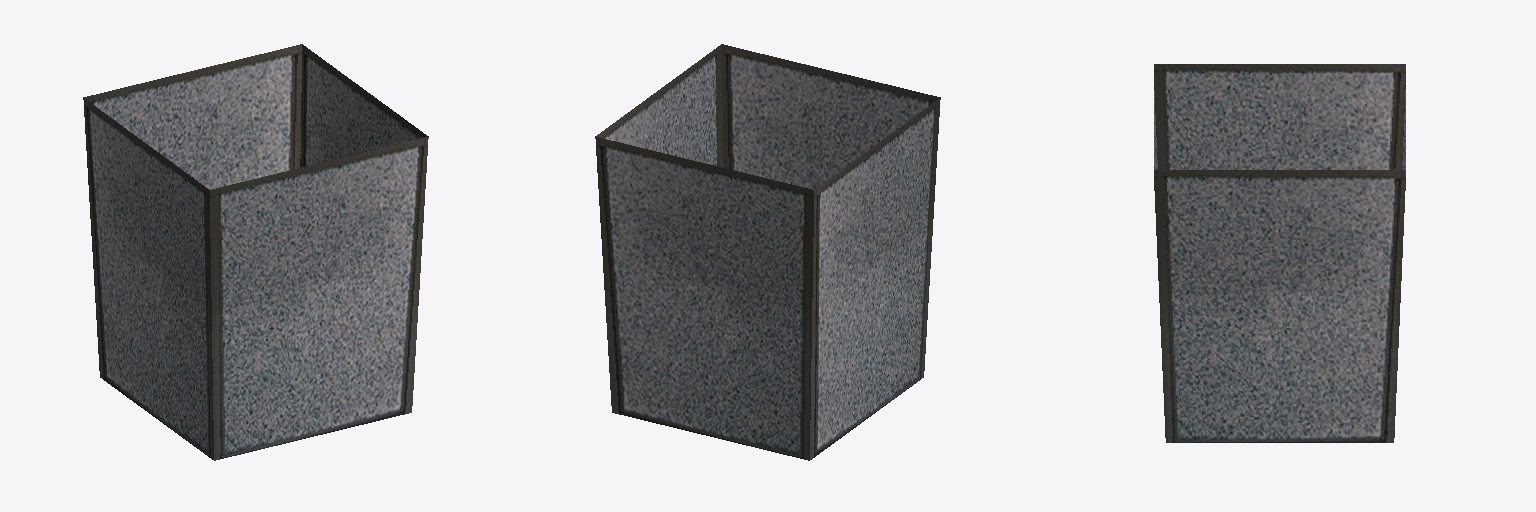
3 views of the same model, side by side, from view 1: azimuth 30°, elevation 25°; view 2: azimuth 150°, elevation 25°; view 3: azimuth 270°, elevation 25° (orthographic).
Parts seen in each view (by area): view 1: trashCan_2; view 2: trashCan_2; view 3: trashCan_2.
Boxes of the visible parts, x1,y1,x2,y2 form: trashCan_2: [83, 44, 428, 460]; trashCan_2: [595, 44, 940, 460]; trashCan_2: [1154, 64, 1405, 442].
Bounding box in the file's own units: 0.8606 × 1.04 × 0.8606.
Materials: 1 (1 with a texture image).